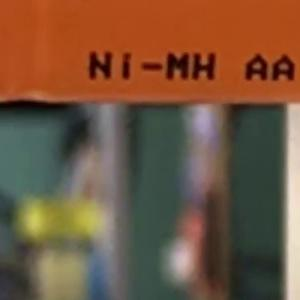NI-MH: (79, 44, 225, 89)
